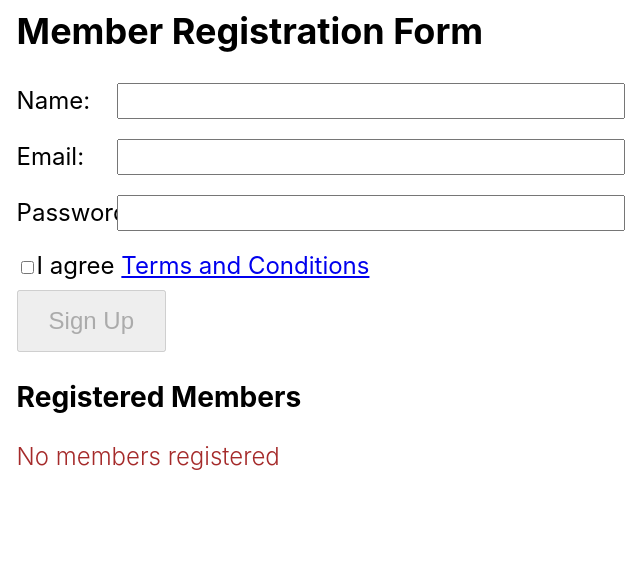
Member Registration Form Test › shows error message and disables the button when invalid email entered
The image size is (642, 564).
Type "dobbydobby.com" into the field named "email" at point(371, 157), box [117, 139, 625, 175]
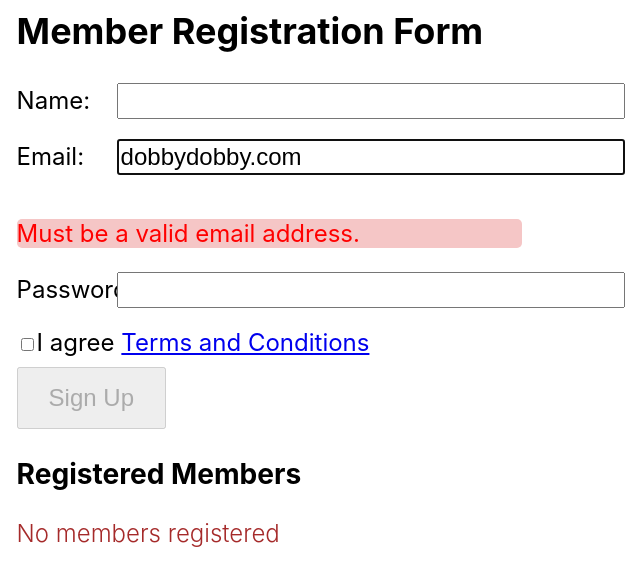
Expected: the submit button is disabled, [17, 367, 166, 429]
Expected: the text with test id "error" reads "Must be a valid email address.", [17, 219, 522, 248]
Clear the field named "email" at point(371, 157), box [117, 139, 625, 175]
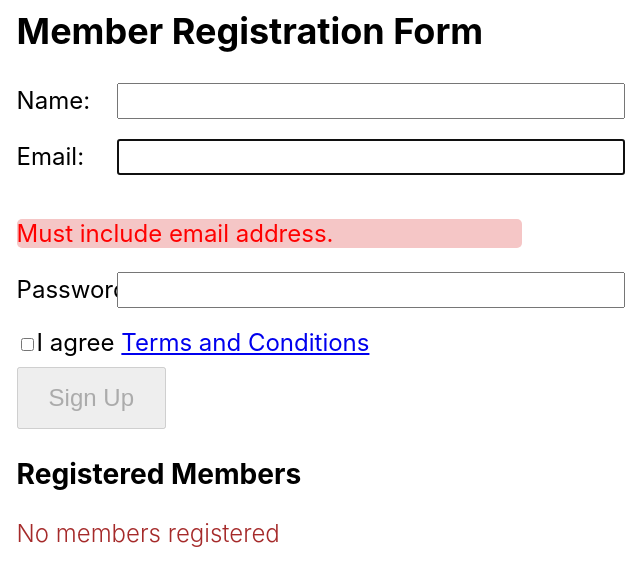
Expected: the submit button is disabled, [17, 367, 166, 429]
Expected: the text with test id "error" reads "Must include email address.", [17, 219, 522, 248]
